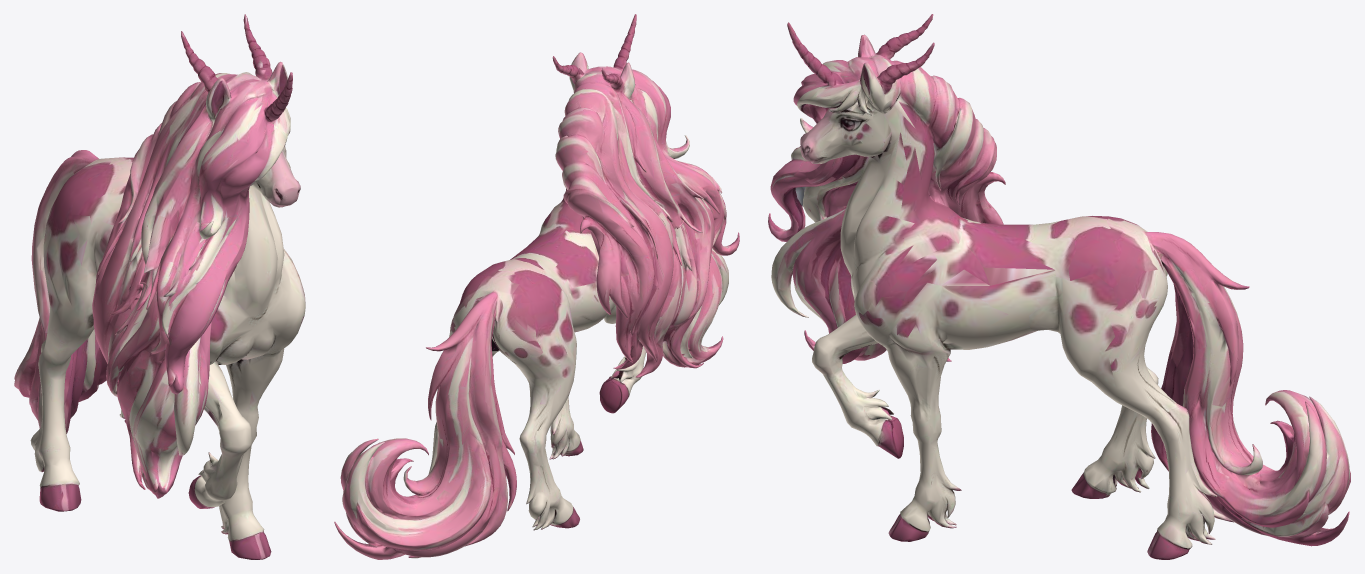
3 renders of one model, left to right at view 1: azimuth 30°, elevation 25°; view 2: azimuth 150°, elevation 25°; view 3: azimuth 270°, elevation 25°, orthographic. The views are drawn at different scales.
Visible parts, largest first — view 1: Mesh_0; view 2: Mesh_0; view 3: Mesh_0.
Boxes of the visible parts, x1,y1,x2,y2 form: Mesh_0: (14,14,305,559); Mesh_0: (334,14,739,559); Mesh_0: (768,14,1350,559).
Bounding box in the file's own units: 0.8706 × 1.81 × 1.91.
1 material, 1 textured.
